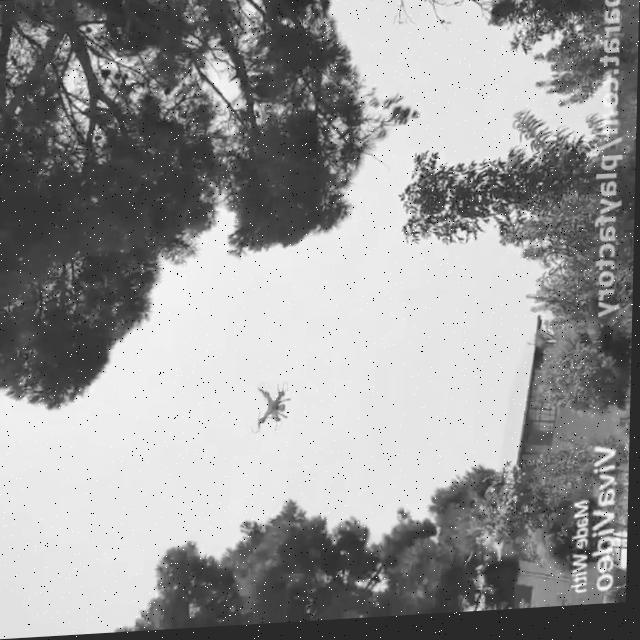drone: (249, 379, 297, 441)
